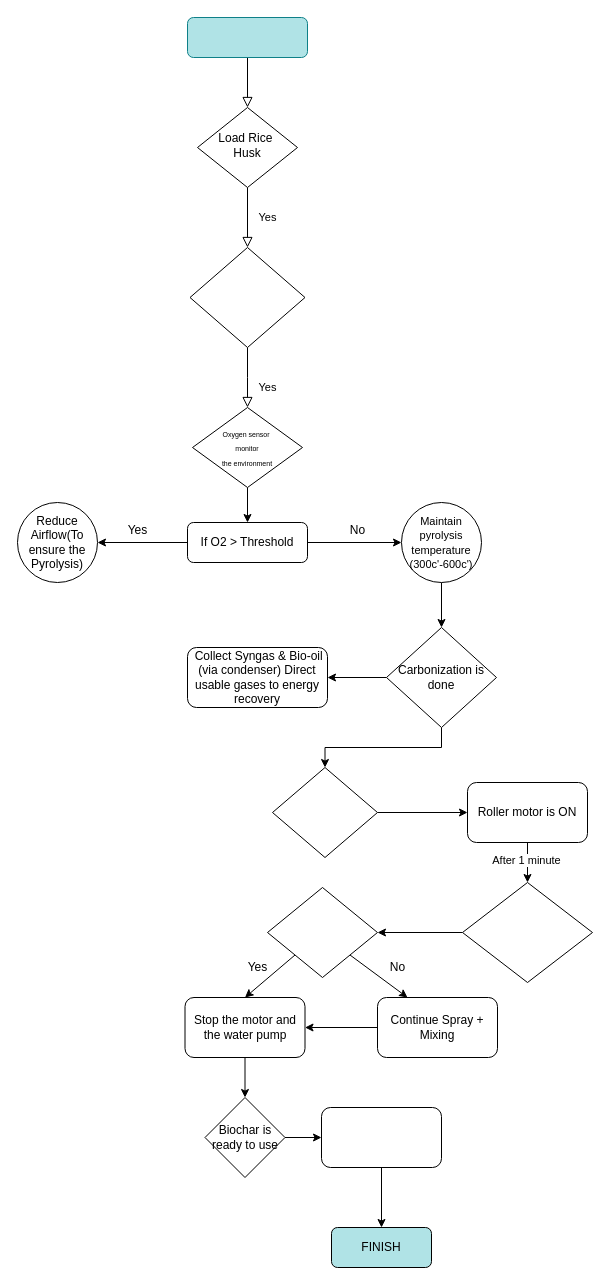
This 610x1285 diagram has some shape labels left out. Here are the shapes that lost their labels. From the top down, the box of each, then its label:
(186, 16, 308, 58): START
(189, 246, 305, 348): Thermocouple monitor the suitable temps
(272, 766, 378, 858): Open the bottom gate
(266, 886, 378, 978): Is Biochar temp<100C'?
(462, 882, 592, 982): Spray Water via CU tubes (Pump ON) Roller rotates → Even cooling
(320, 1106, 442, 1168): IoT gives the weight of the final product
